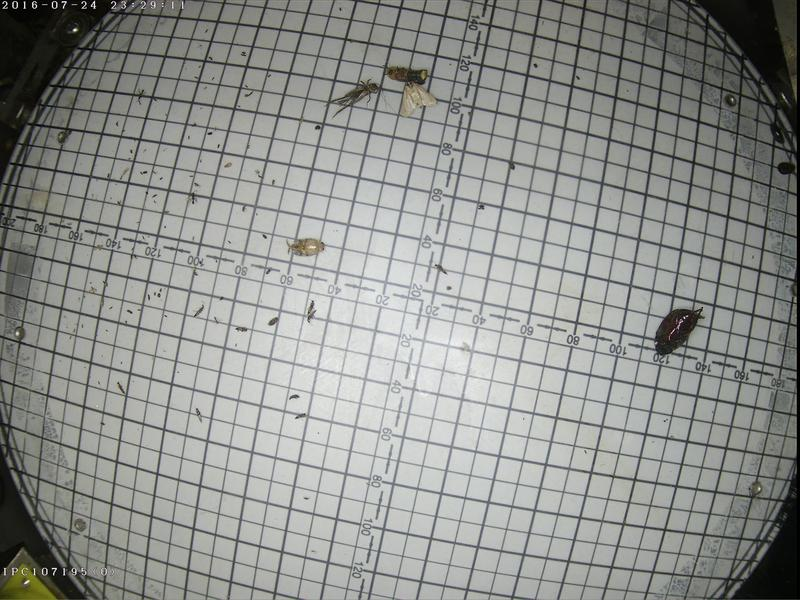Stem borer: (396, 80, 433, 115)
